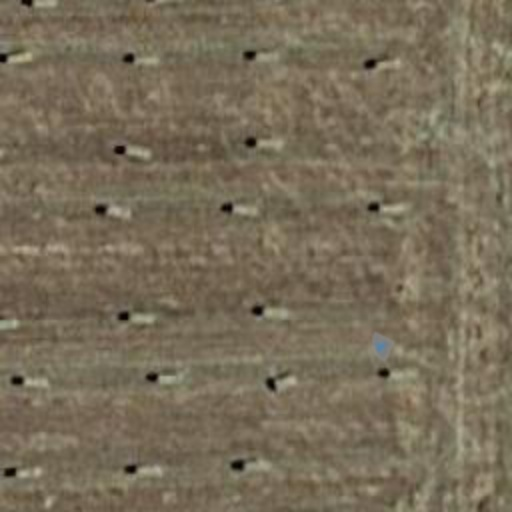quarter_circle: (362, 326, 402, 366)
